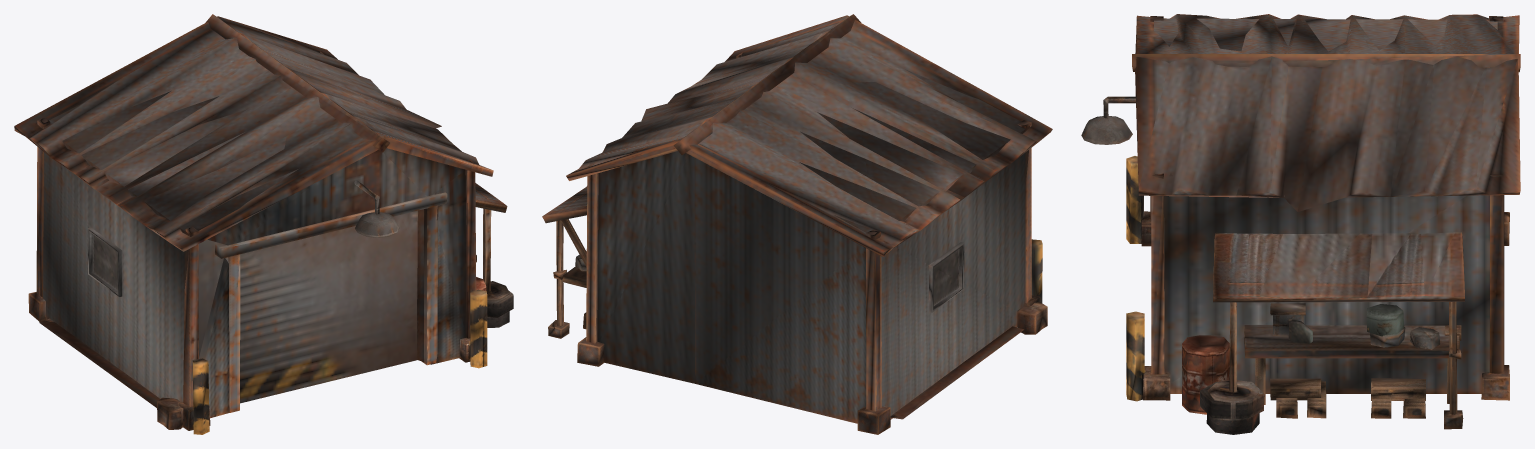
Rendered from Meshy_AI_Rusty_Industrial_Gara_0910090201_texture.fbx.
The picture shows the model from 3 angles, left to right: view 1: azimuth 30°, elevation 25°; view 2: azimuth 150°, elevation 25°; view 3: azimuth 270°, elevation 25°; orthographic projection. The views are drawn at different scales.
Visible parts, largest first — view 1: Mesh_0; view 2: Mesh_0; view 3: Mesh_0.
Part boxes in pixels (x1,y1,x2,y2): Mesh_0: [14, 14, 513, 434]; Mesh_0: [542, 14, 1052, 434]; Mesh_0: [1081, 14, 1520, 434].
Size of the model in its own units: 100 by 65.04 by 89.65.
Materials: 1 (1 with a texture image).
